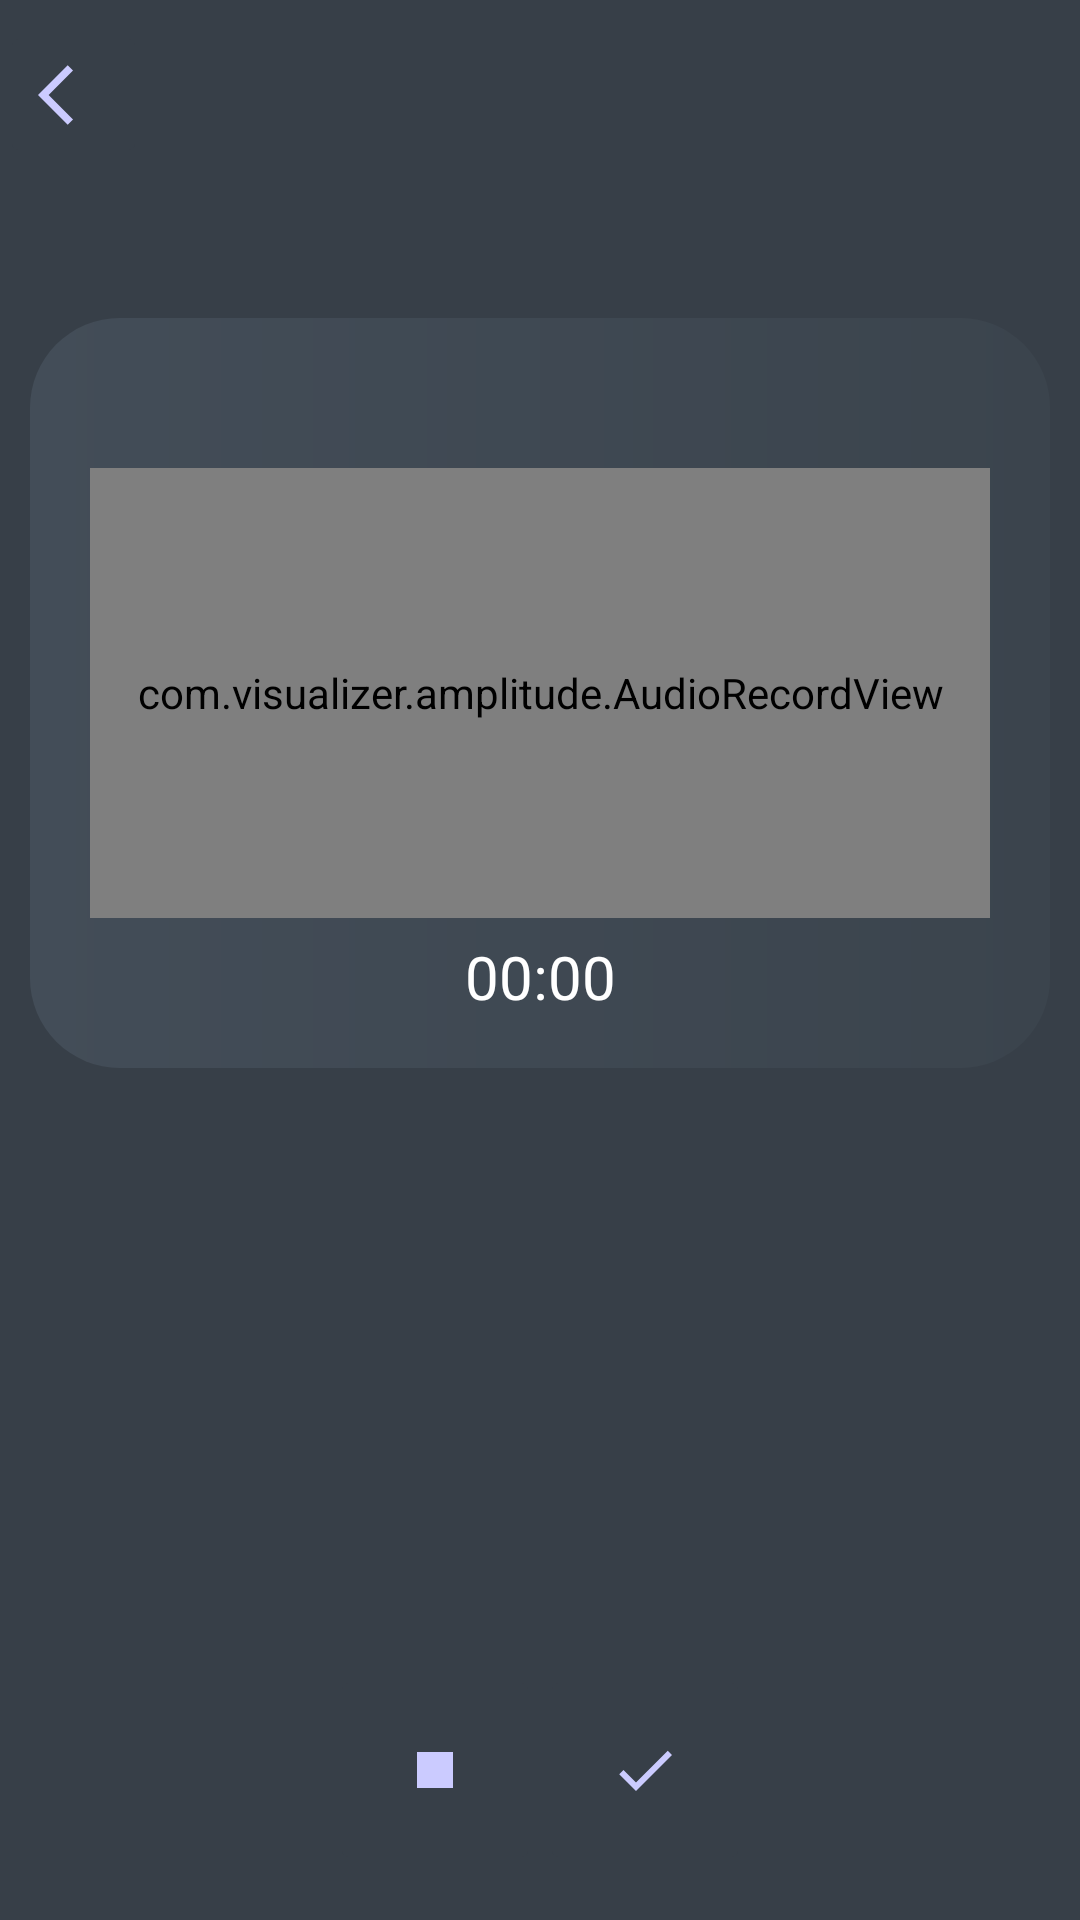

Icons on this 1080w x 1920h Android screen, each with its box as bbox=(x1, y1, x2, y2):
check: bbox=(619, 1751, 672, 1791)
return: bbox=(38, 65, 73, 125)
